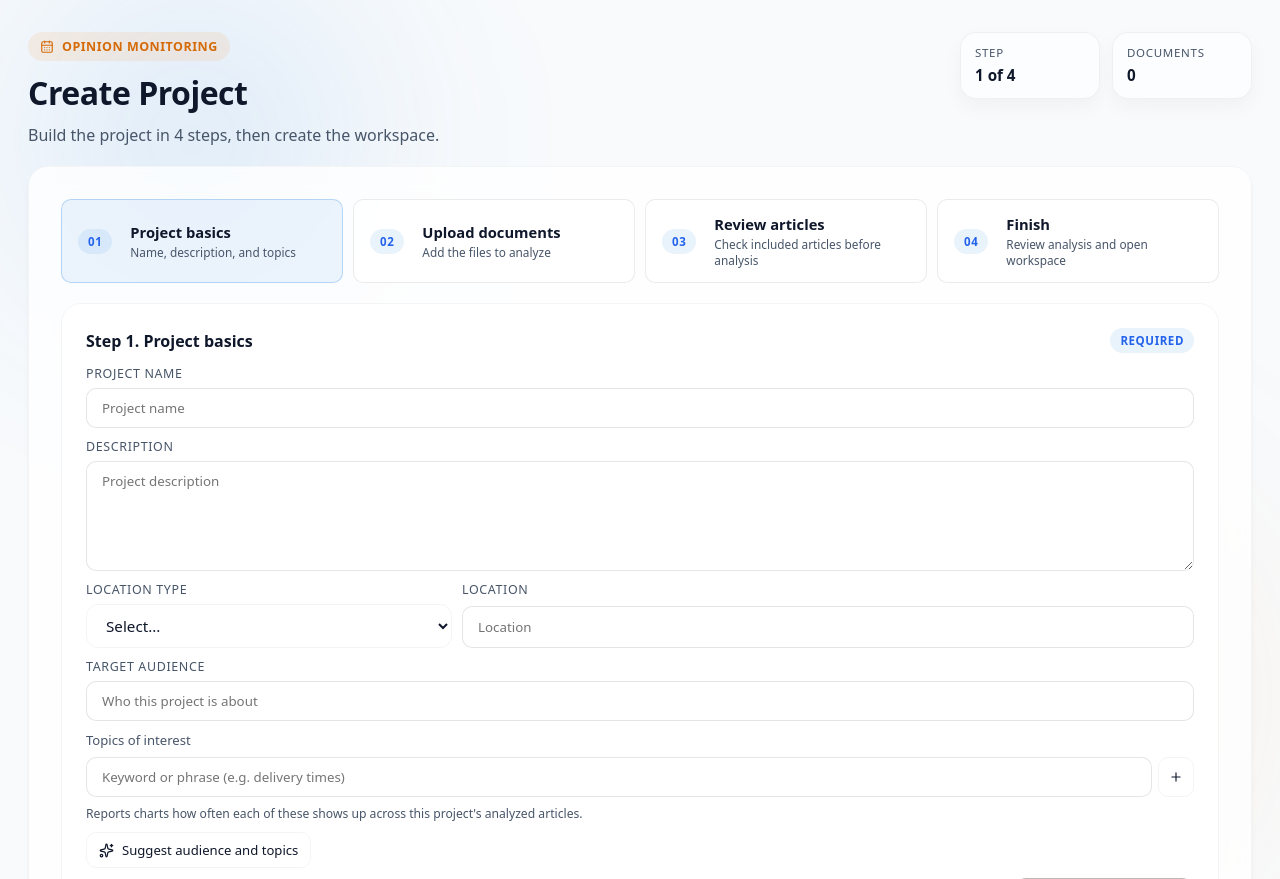
Test: ProjectsPage create wizard › starts on the basics step with Continue disabled until name and description are filled
expect the text "Step 1. Project basics" is shown: met, box top-left (86, 330), bottom-right (253, 352)
Type "New Study" into the field with placeholder "Project name".
click(640, 408); type("New Study")  # box top-left (86, 388), bottom-right (1194, 428)
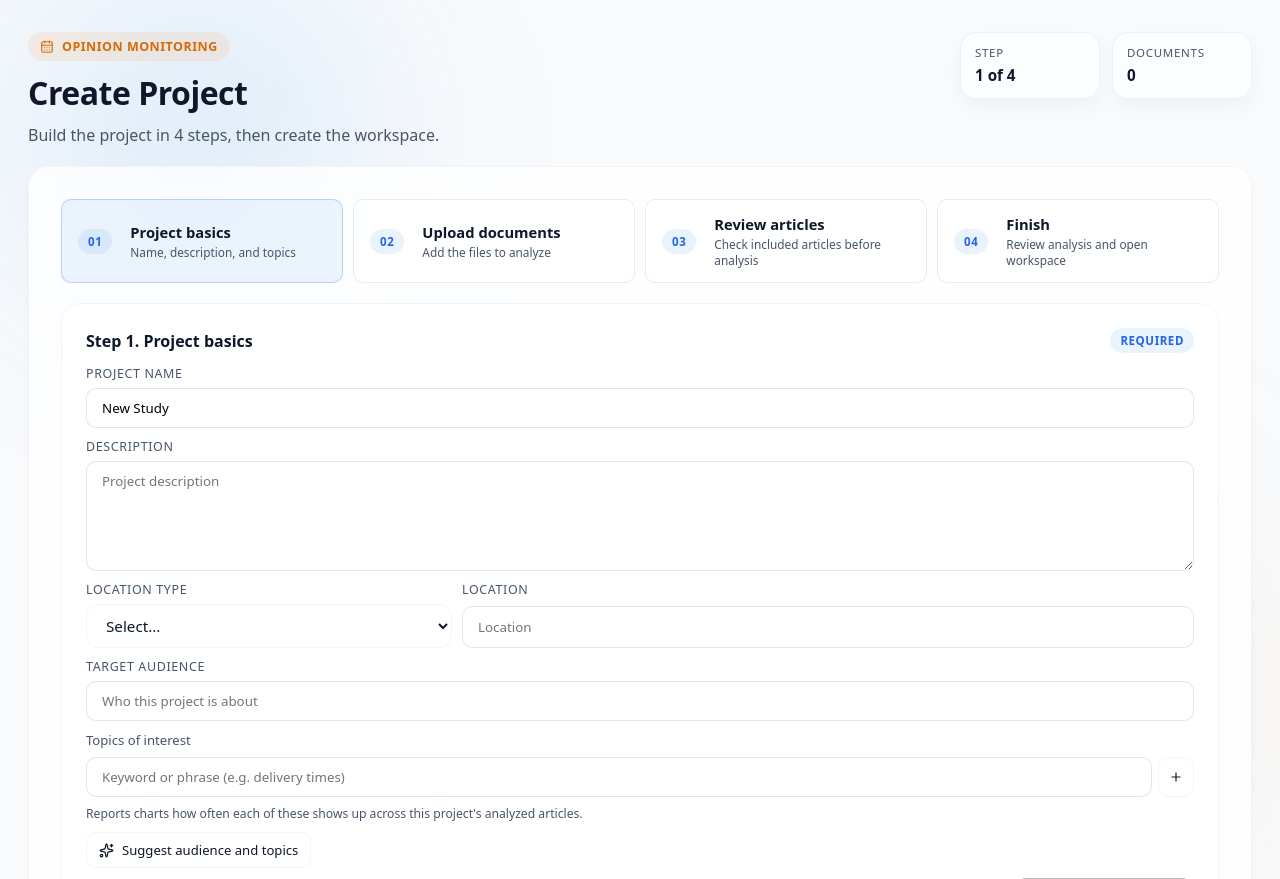
Type "Some description" into the text box with placeholder "Project description".
click(640, 516); type("Some description")  # box top-left (86, 461), bottom-right (1194, 571)
(page scrolled)
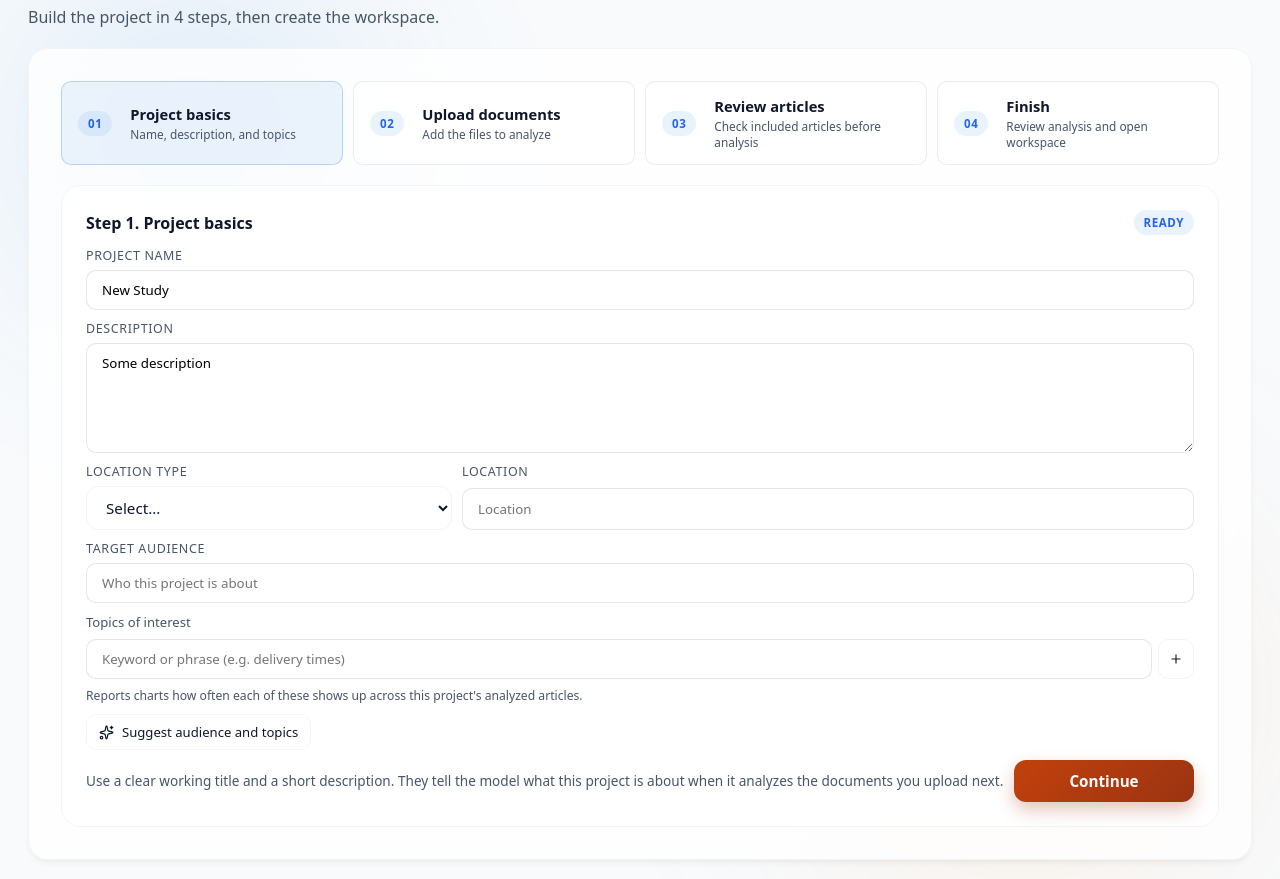
expect the button "Continue" is enabled: met, box top-left (1014, 760), bottom-right (1194, 802)
